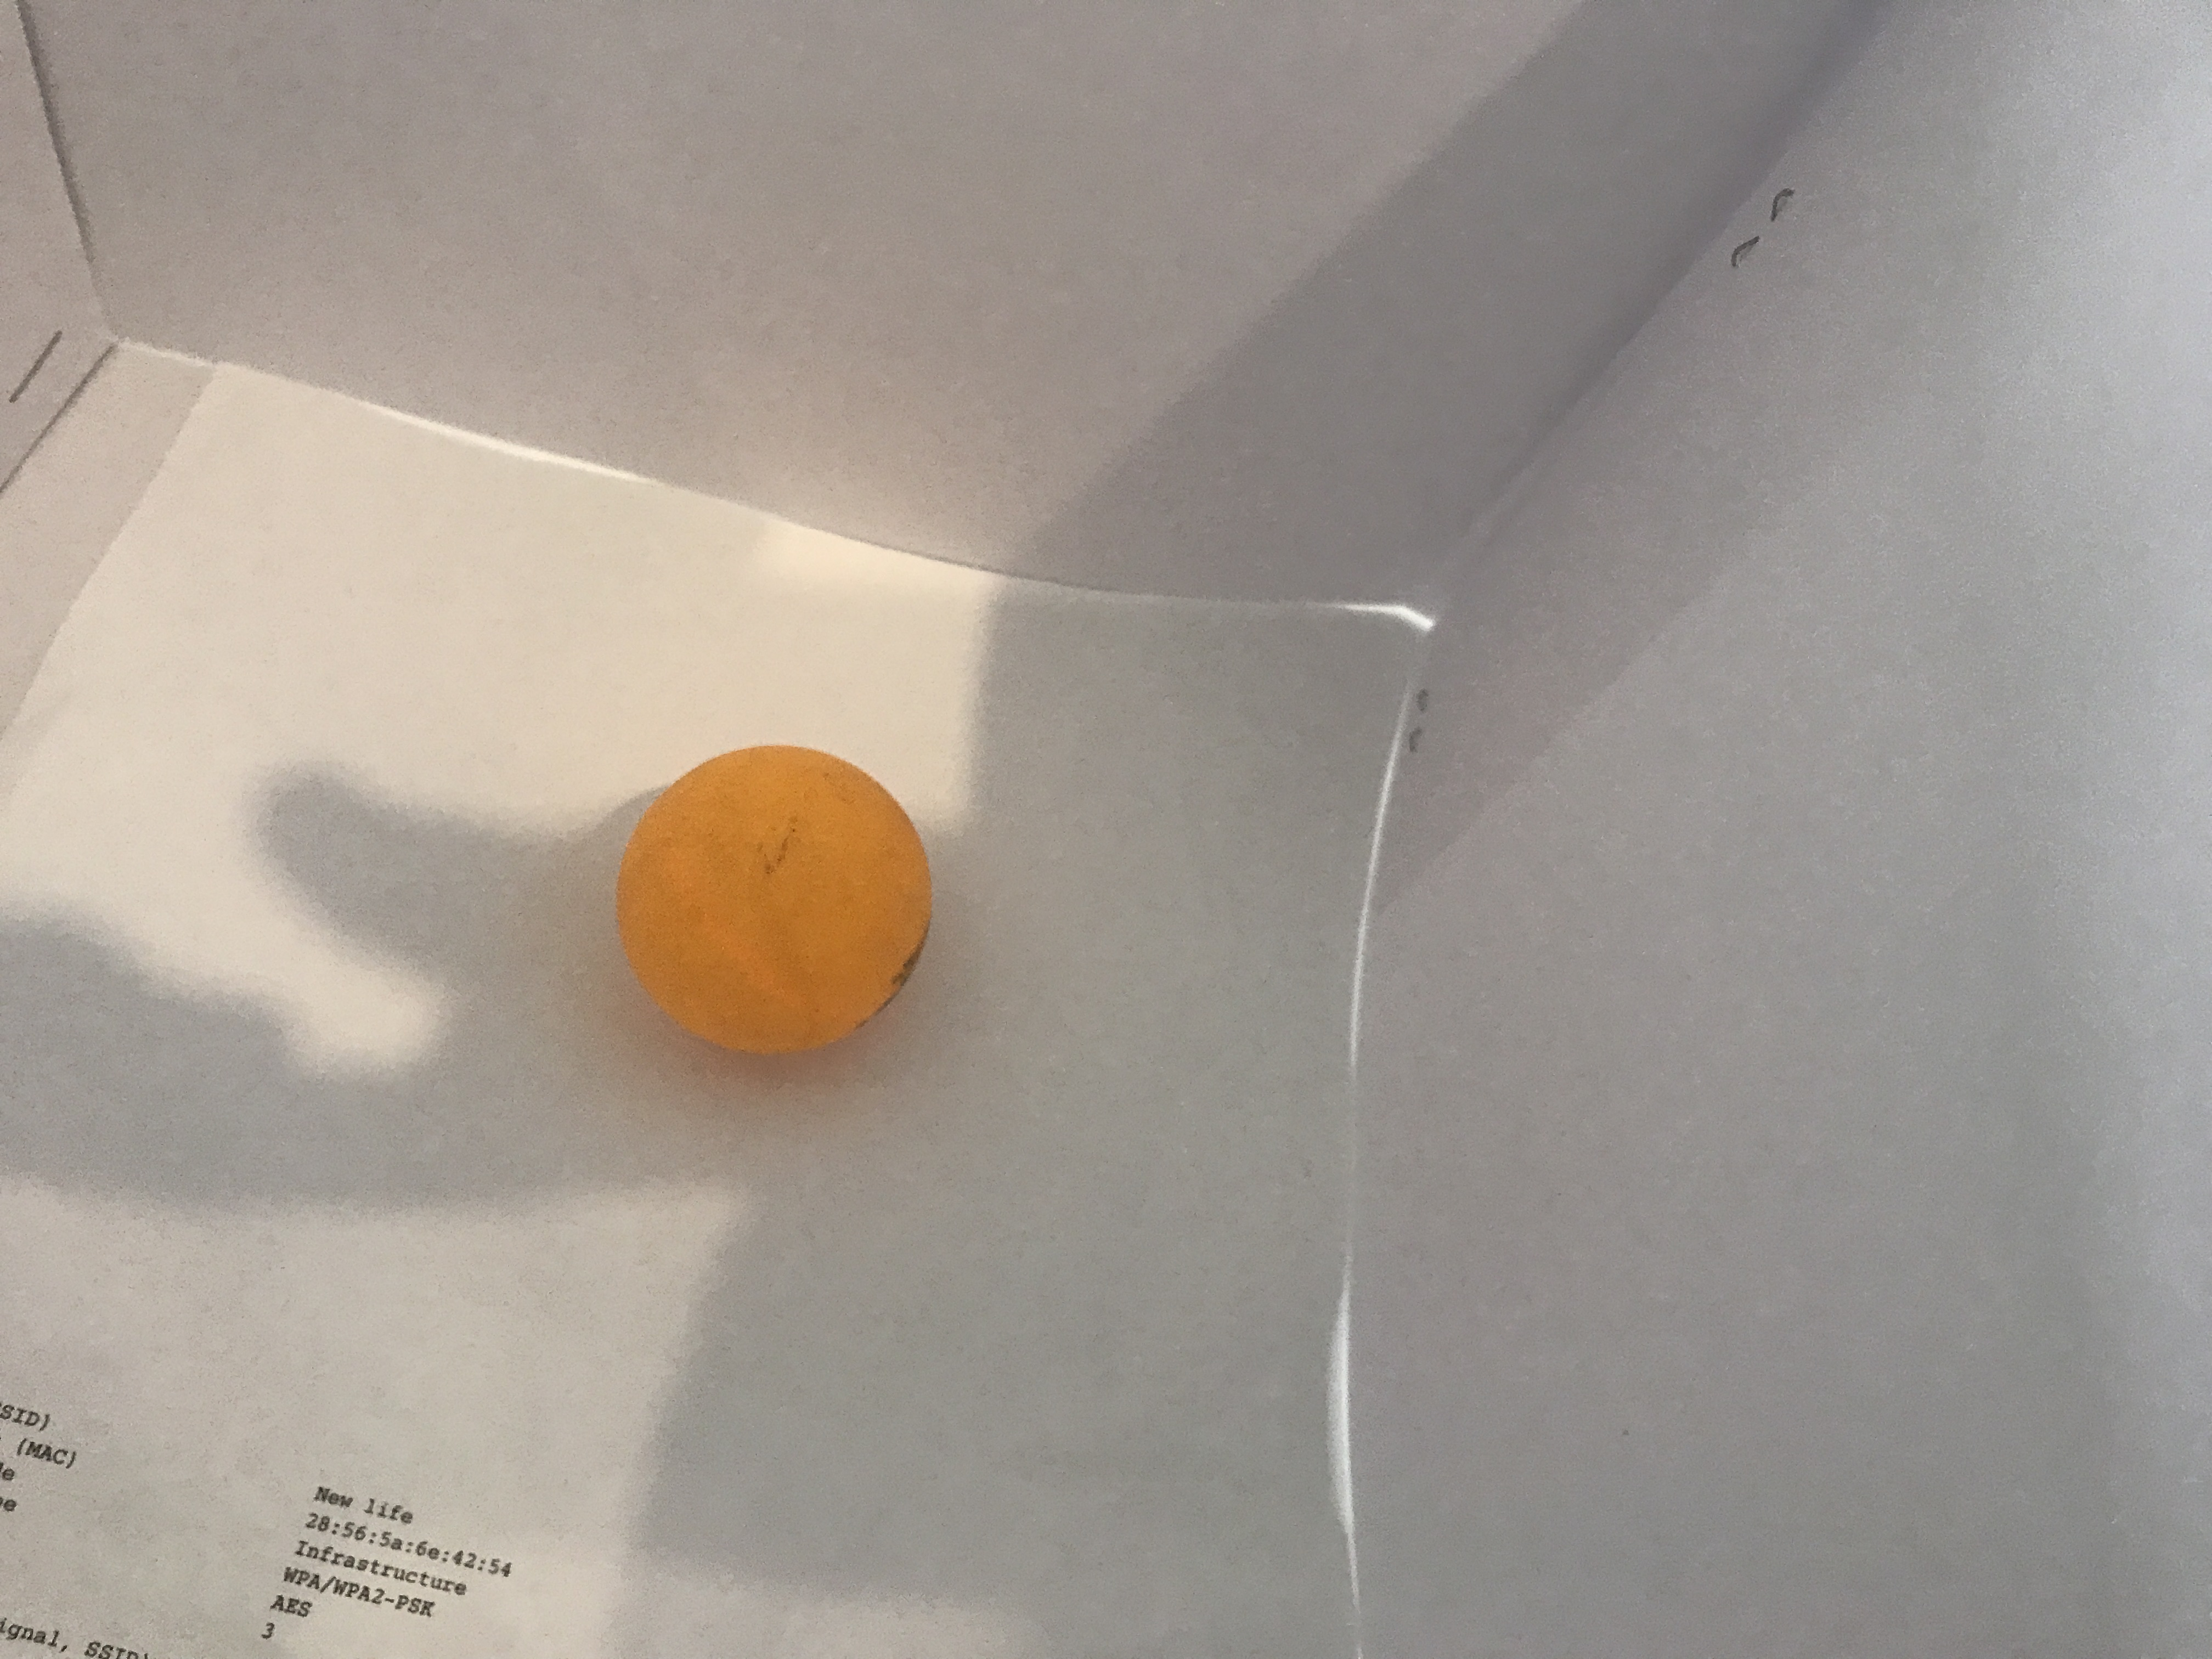pp: (615, 744, 939, 1058)
